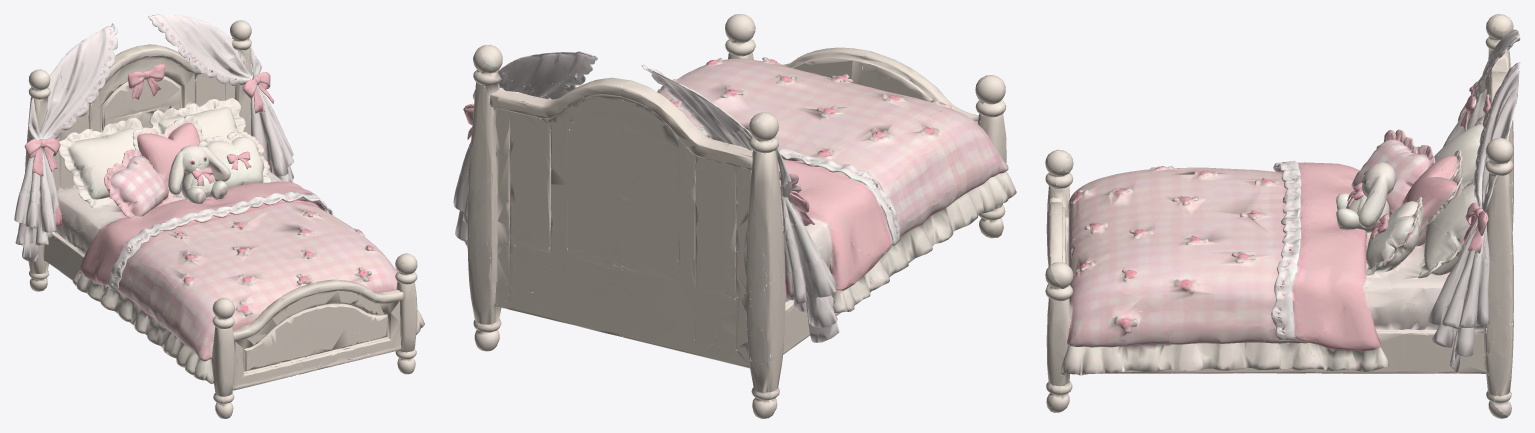
File: bed.glb
3 views of the same model, side by side, from view 1: azimuth 30°, elevation 25°; view 2: azimuth 150°, elevation 25°; view 3: azimuth 270°, elevation 25° (orthographic). The views are drawn at different scales.
Visible parts, largest first — view 1: tripo_node_f30f83c9-2885-42c9-8adf-6294e23bc672; view 2: tripo_node_f30f83c9-2885-42c9-8adf-6294e23bc672; view 3: tripo_node_f30f83c9-2885-42c9-8adf-6294e23bc672.
Boxes of the visible parts, x1,y1,x2,y2 form: tripo_node_f30f83c9-2885-42c9-8adf-6294e23bc672: (14, 14, 424, 418); tripo_node_f30f83c9-2885-42c9-8adf-6294e23bc672: (453, 14, 1016, 418); tripo_node_f30f83c9-2885-42c9-8adf-6294e23bc672: (1045, 14, 1520, 418).
Bounding box in the file's own units: 0.8336 × 0.6927 × 0.981.
1 material, 1 textured.
